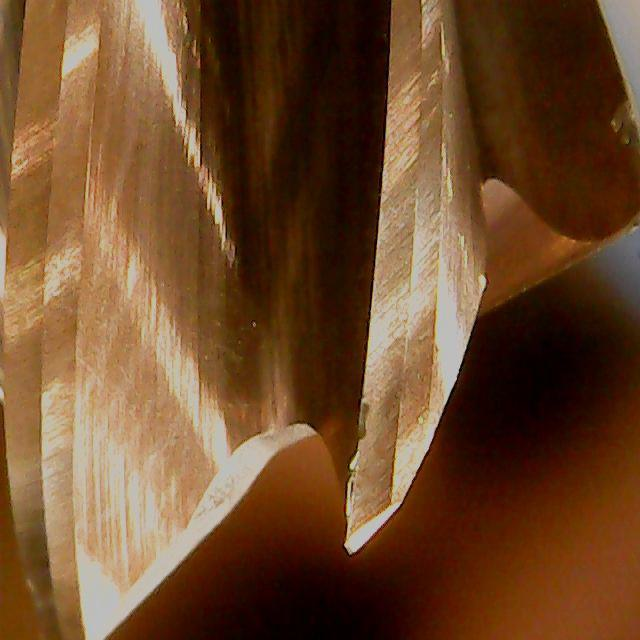Tool-wear-class-1: (307, 210, 477, 564)
